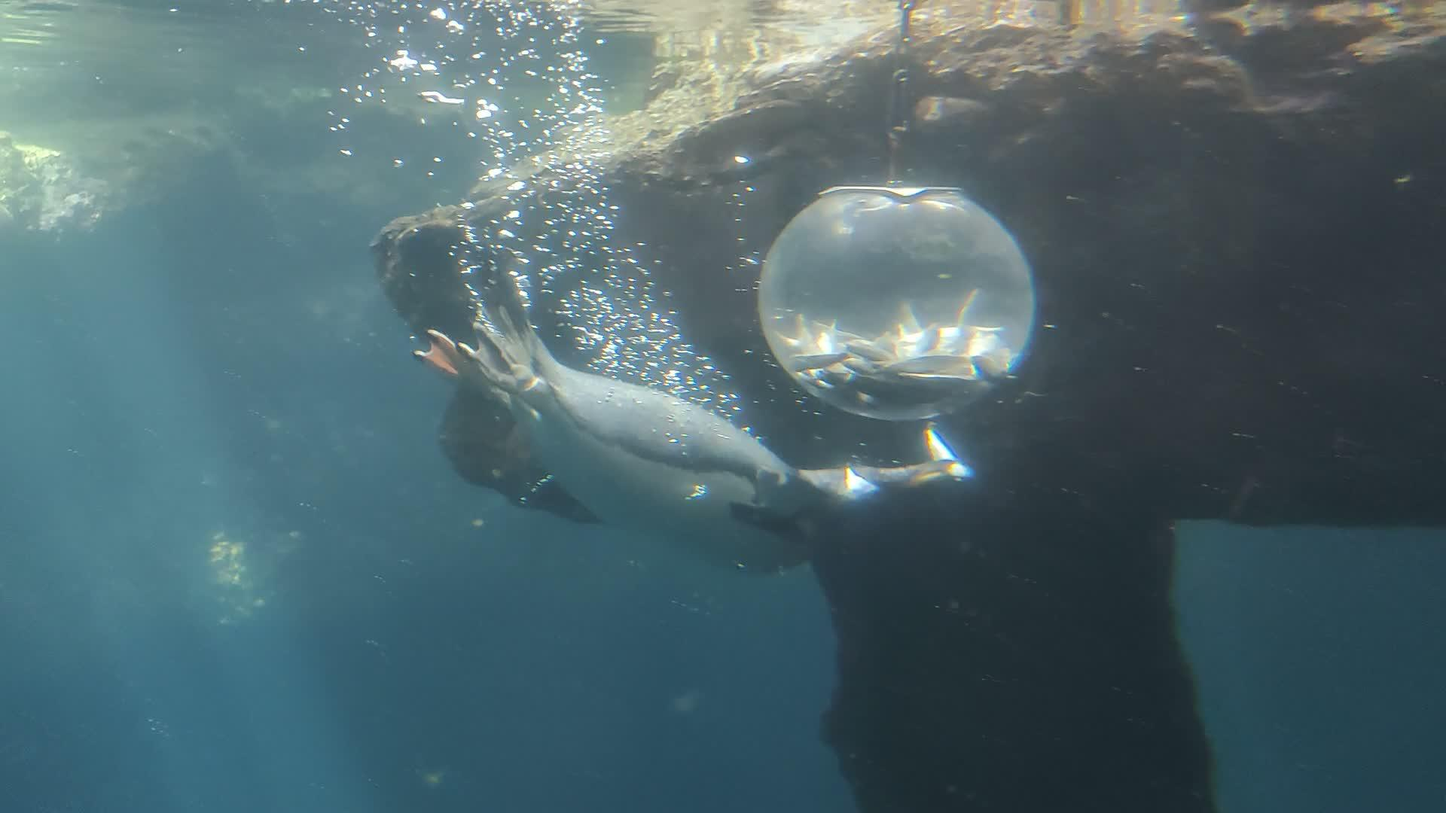apple: (412, 307, 955, 580)
